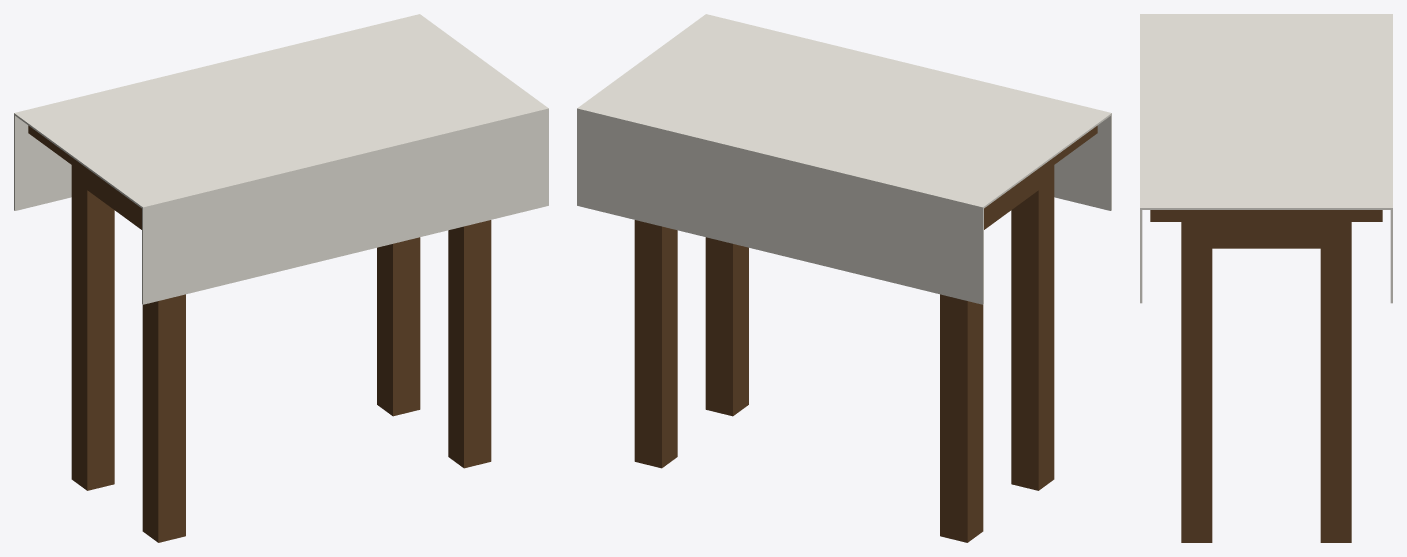
3 renders of one model, left to right at view 1: azimuth 30°, elevation 25°; view 2: azimuth 150°, elevation 25°; view 3: azimuth 270°, elevation 25°, orthographic. The views are drawn at different scales.
Visible parts, largest first — view 1: parametric-variant-table-1st-pub-644b9e3d0f03d15db3ee; view 2: parametric-variant-table-1st-pub-644b9e3d0f03d15db3ee; view 3: parametric-variant-table-1st-pub-644b9e3d0f03d15db3ee.
Boxes of the visible parts, box(x1,y1,x2,y2) form: parametric-variant-table-1st-pub-644b9e3d0f03d15db3ee: box(14, 14, 548, 542); parametric-variant-table-1st-pub-644b9e3d0f03d15db3ee: box(577, 14, 1111, 542); parametric-variant-table-1st-pub-644b9e3d0f03d15db3ee: box(1140, 14, 1392, 542).
Size of the model in its own units: 0.89 by 0.754 by 0.49.
